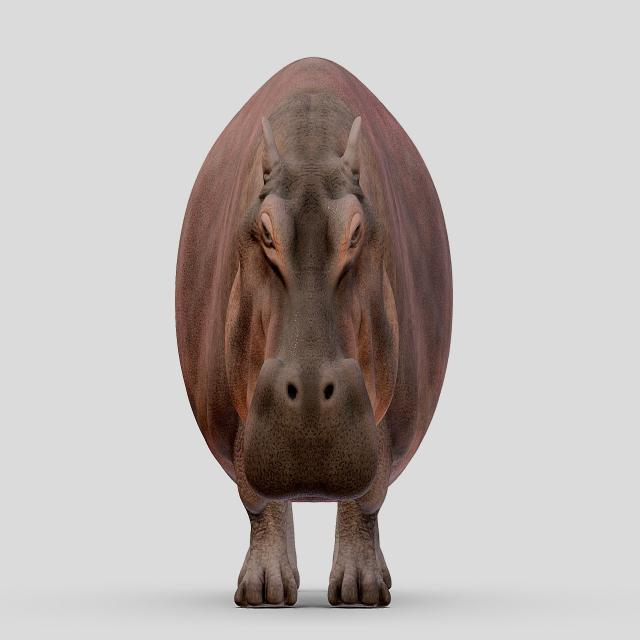Hippopotamus: (170, 46, 454, 611)
